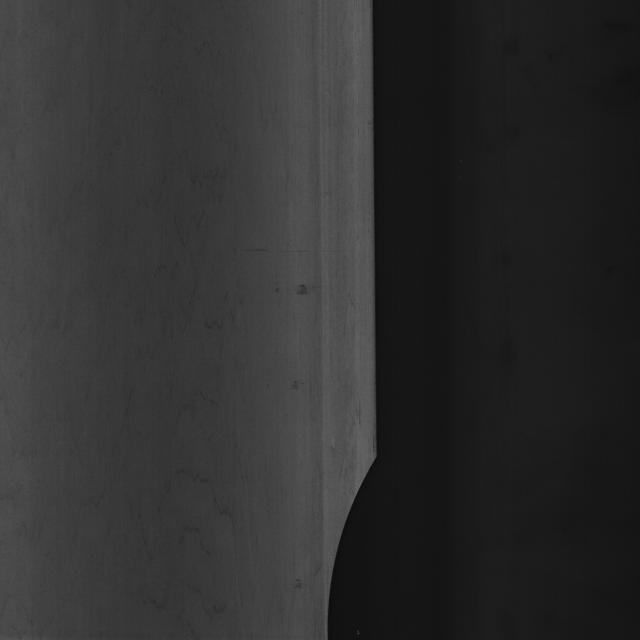silk_spot: (308, 428, 405, 640)
